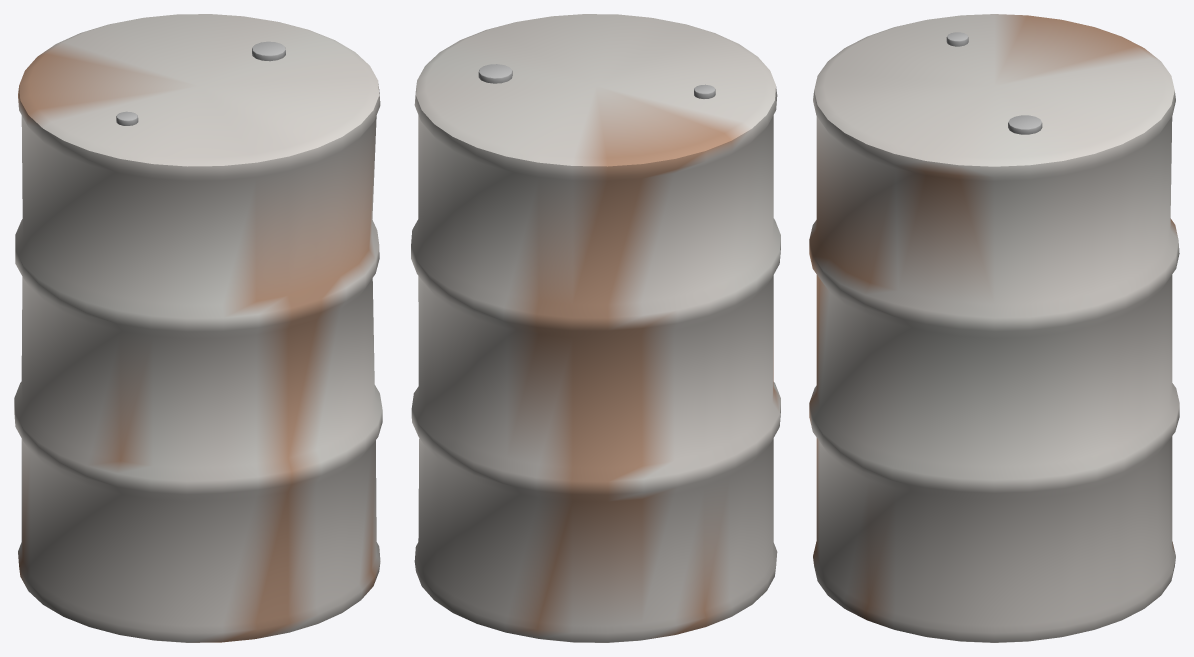
The model's file is loot-barrel-2.glb.
3 views of the same model, side by side, from view 1: azimuth 30°, elevation 25°; view 2: azimuth 150°, elevation 25°; view 3: azimuth 270°, elevation 25° (orthographic).
Visible parts, largest first — view 1: Body_lod0; view 2: Body_lod0; view 3: Body_lod0.
Boxes of the visible parts, bbox=[...] form: Body_lod0: bbox=[14, 14, 382, 642]; Body_lod0: bbox=[411, 14, 780, 642]; Body_lod0: bbox=[809, 14, 1179, 642].
Size of what is drawn, in the model's own units: 0.6025 by 0.882 by 0.604.
